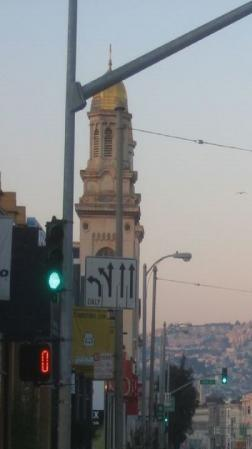green_light: (46, 220, 65, 294), (222, 367, 227, 384)
